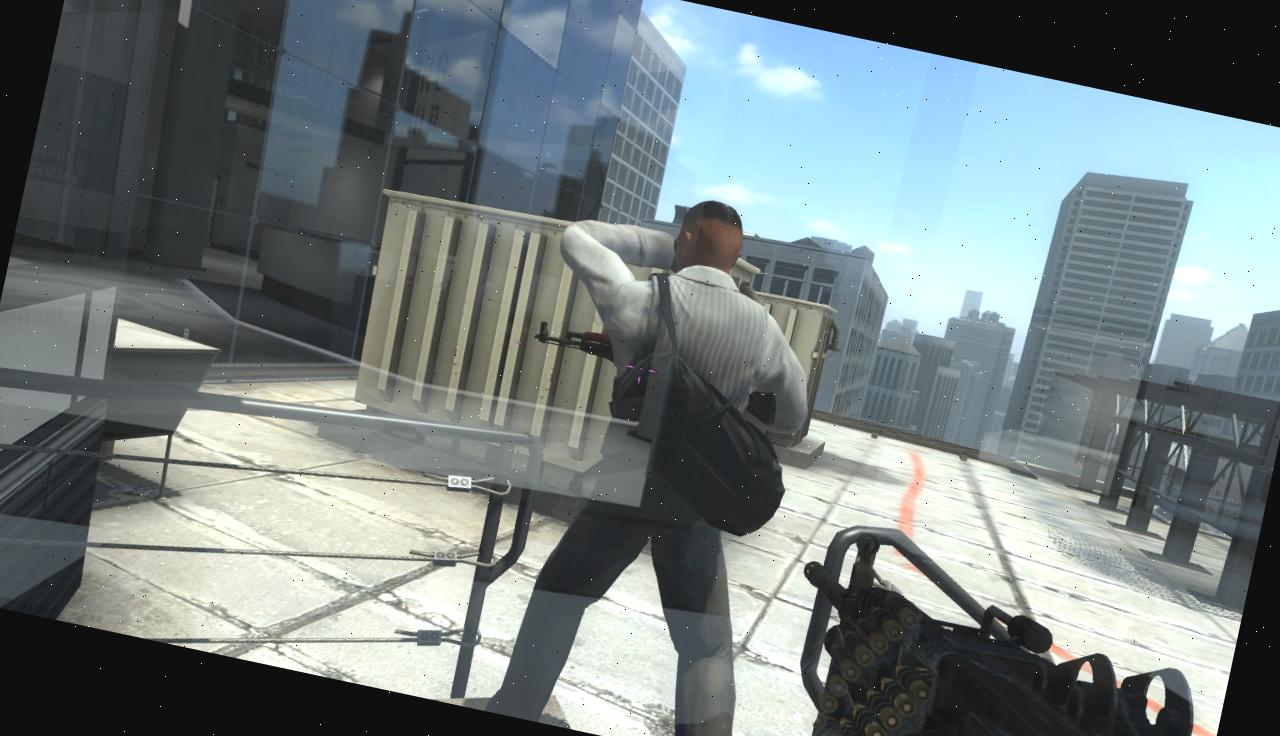rifle: (758, 522, 1242, 736)
tt: (514, 179, 814, 736)
tthead: (663, 194, 752, 288)
